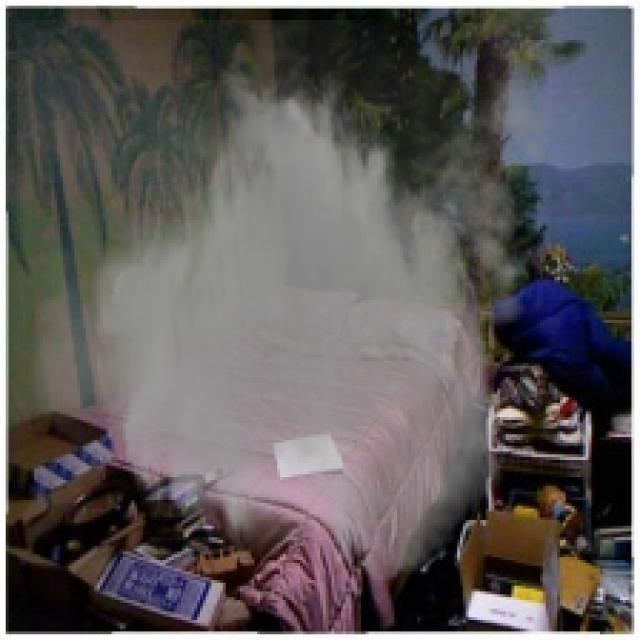smoke: (17, 20, 563, 586)
